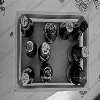beer: (18, 16, 35, 38)
